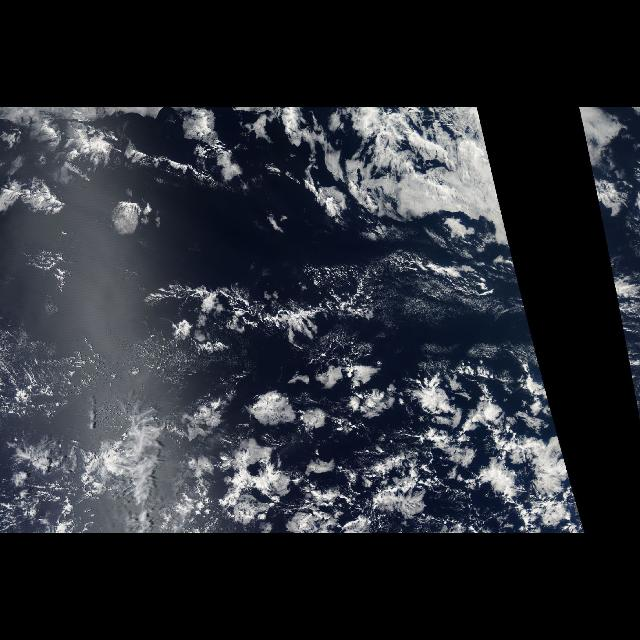Flower: (165, 363, 432, 533)
